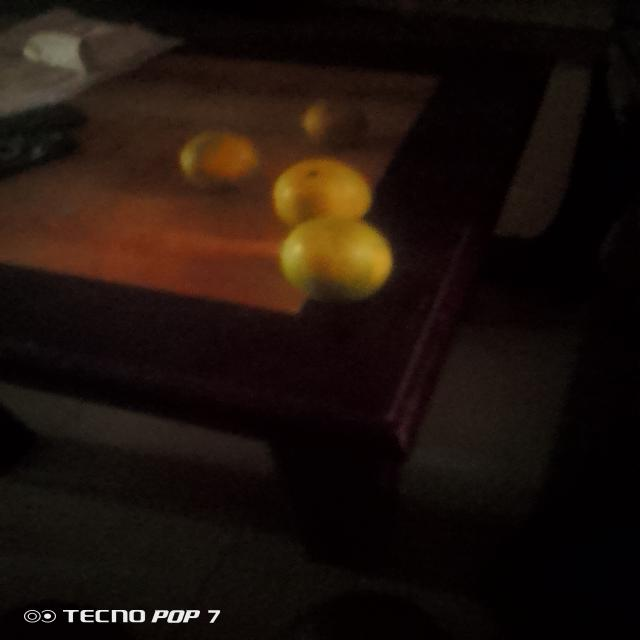Ripe orange: (264, 220, 439, 316), (259, 149, 400, 226), (172, 127, 272, 204), (285, 94, 369, 153)
